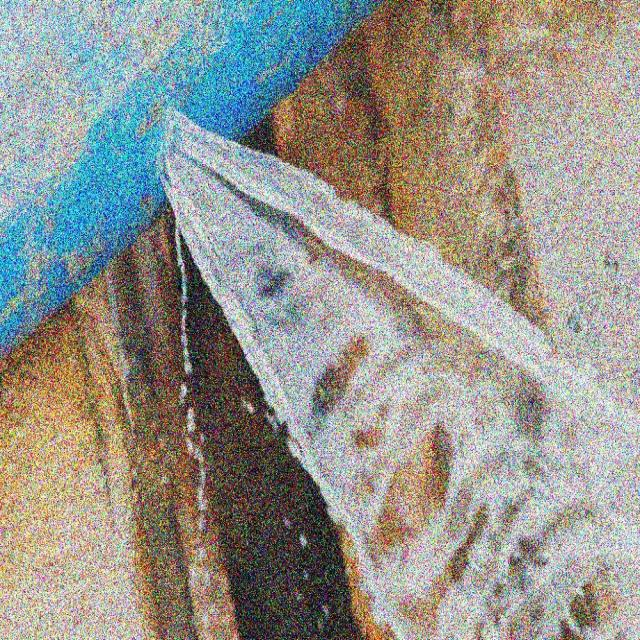Leak: (142, 86, 195, 210)
